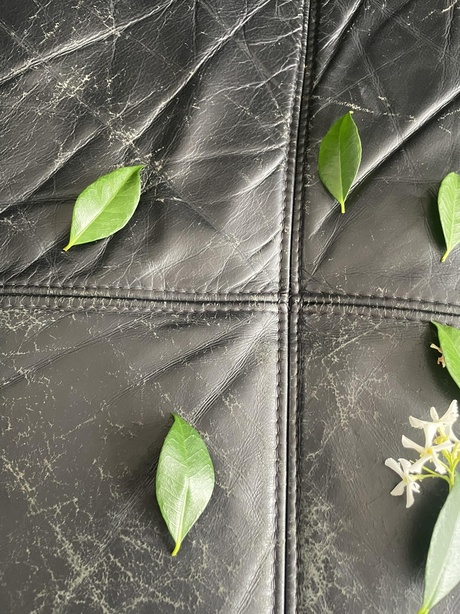leaf: (149, 403, 220, 554), (66, 157, 147, 253), (316, 103, 364, 210), (419, 313, 460, 407), (433, 161, 460, 257)
